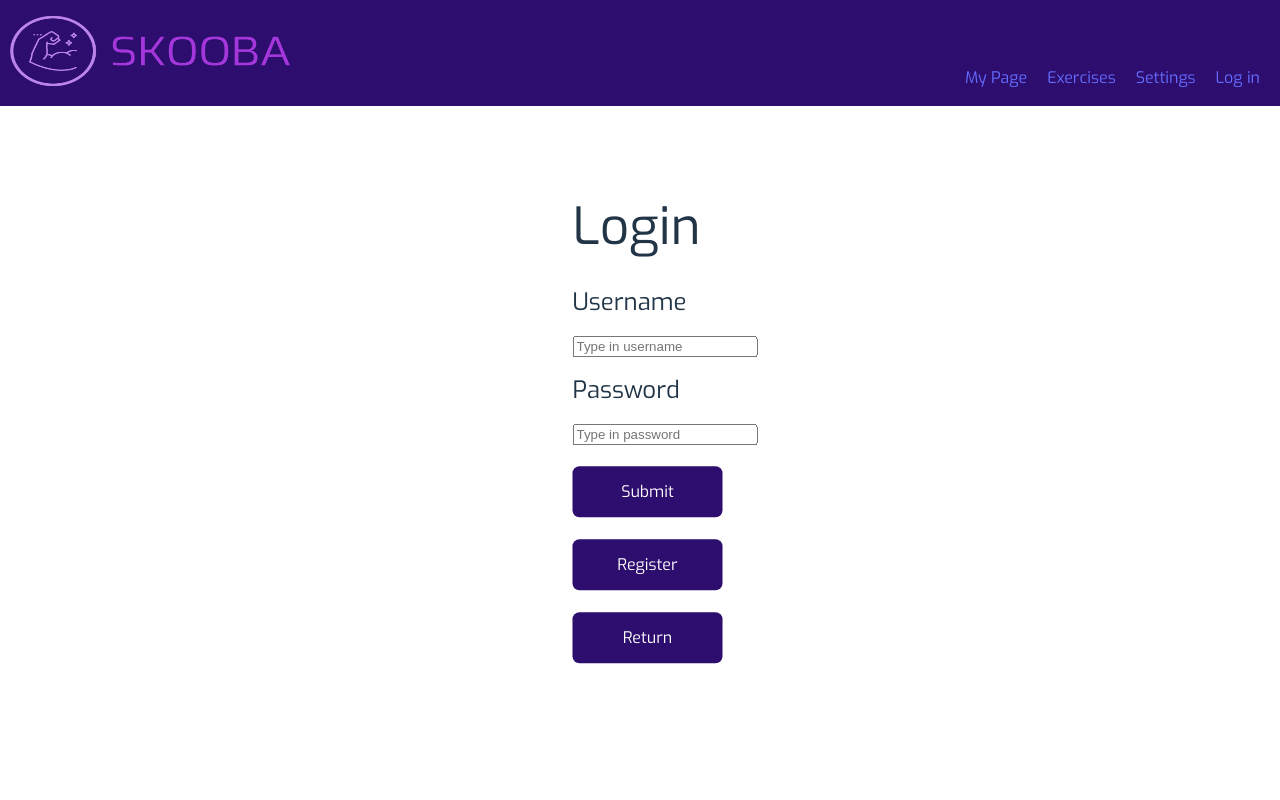
it: Common login behaviour › User does not exist error
This screenshot has width=1280, height=800.
Type "user" into the field named "username" at [666, 347], box [573, 336, 758, 357]
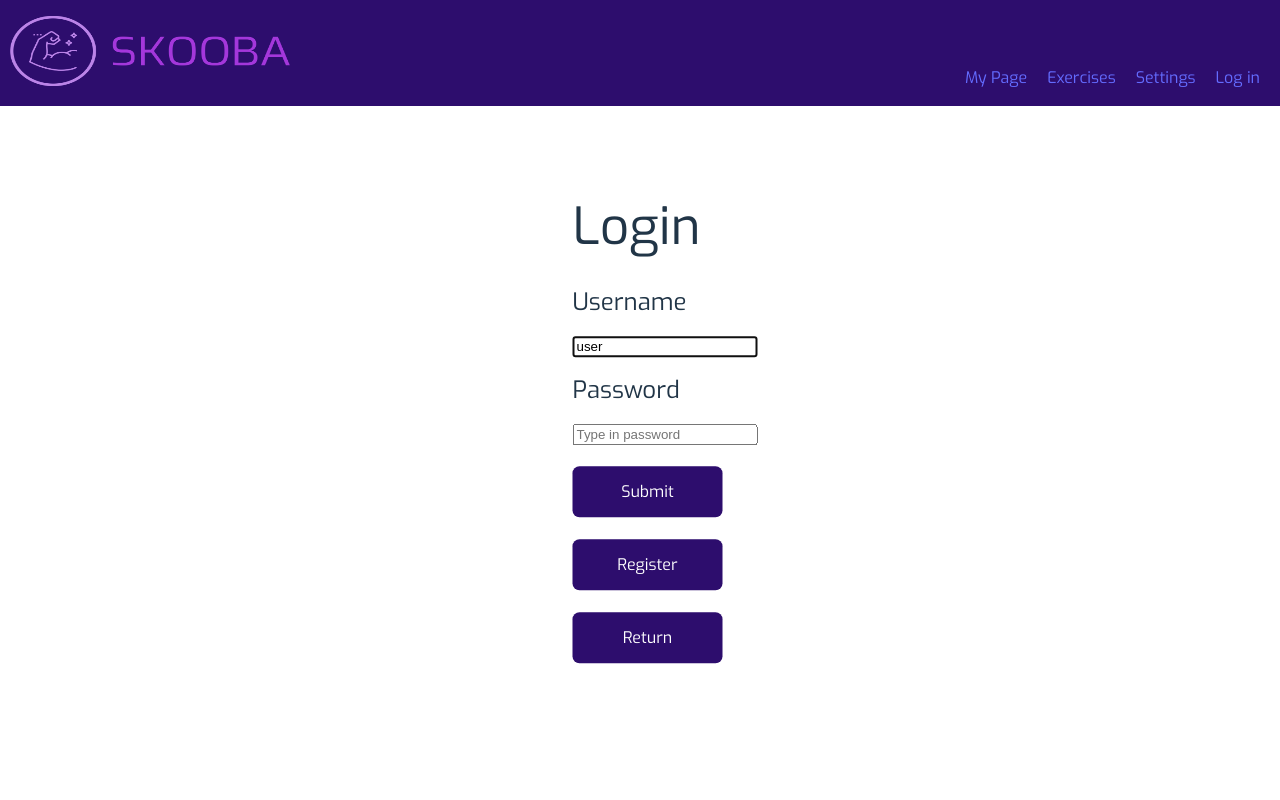
Type "password" into the password field named "password" at [666, 435], box [573, 424, 758, 445]
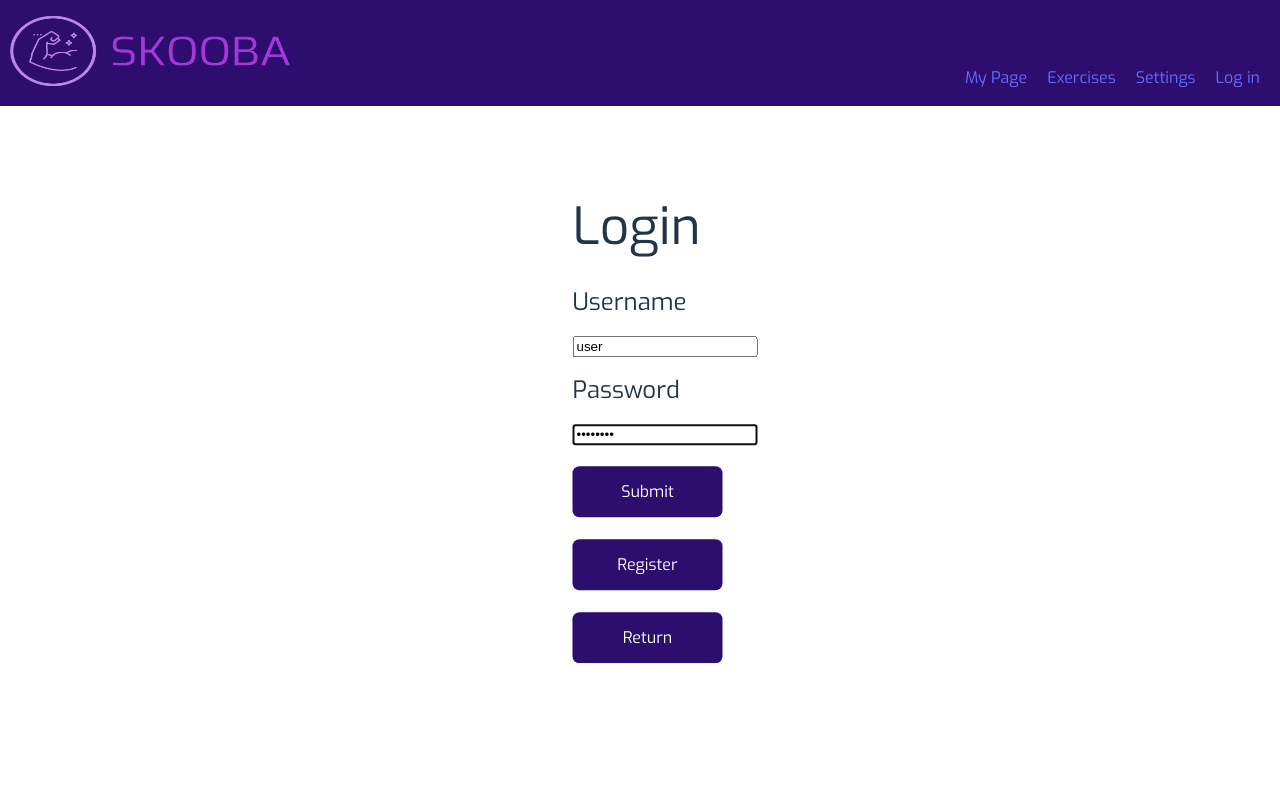
Click the button "Submit" at [648, 492], box [573, 466, 723, 517]
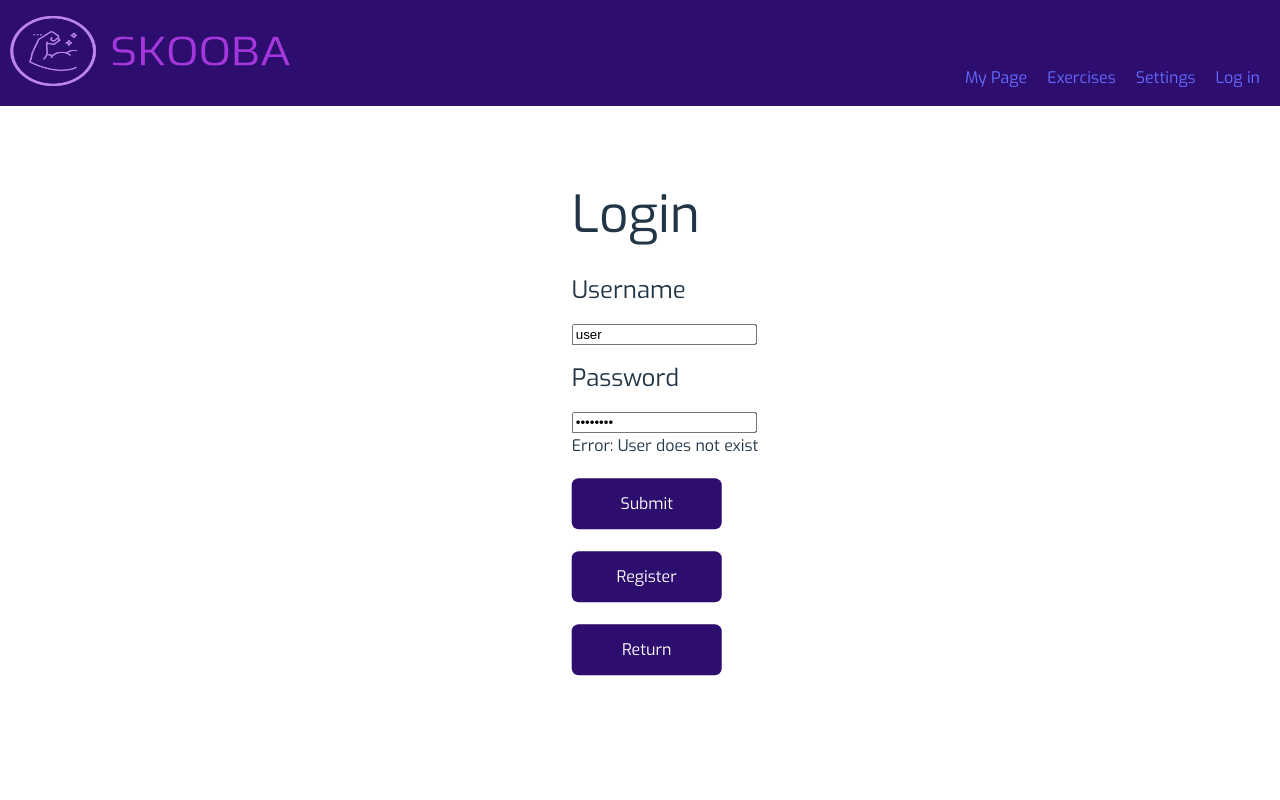
Expected: the link "Log in" is shown, [1216, 67, 1260, 88]
Result: the text "Error: User does not exist" is shown at [572, 435, 759, 456]
